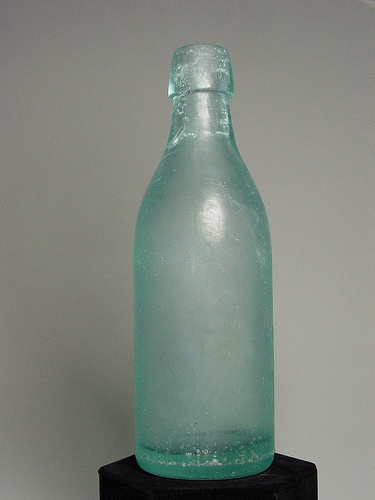emptybottle: (133, 45, 274, 480)
